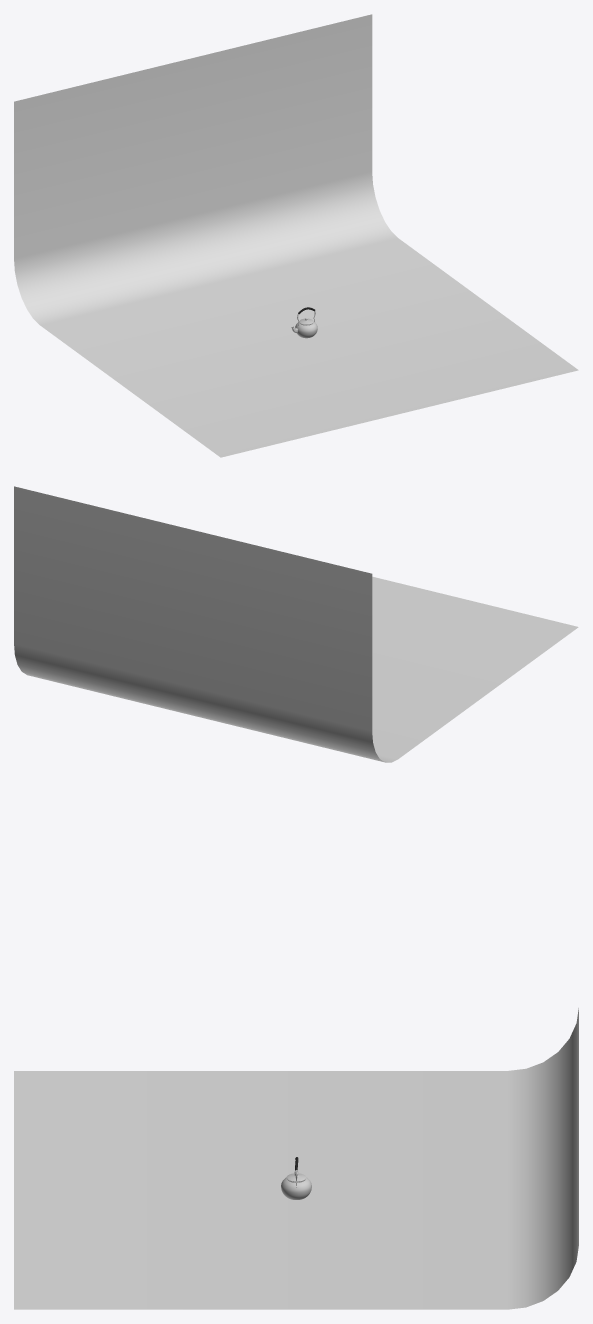
The model's file is Teapot.fbx.
3 views of the same model, one above another, from view 1: azimuth 30°, elevation 25°; view 2: azimuth 150°, elevation 25°; view 3: azimuth 270°, elevation 25° (orthographic). The views are drawn at different scales.
Parts seen in each view (by area): view 1: Plane; view 2: Plane; view 3: Plane, Teapot Body.
Boxes of the visible parts, left/top/right/bottom form: Plane: left=14, top=14, right=578, bottom=457; Plane: left=14, top=486, right=578, bottom=762; Plane: left=14, top=1008, right=578, bottom=1309; Teapot Body: left=281, top=1170, right=311, bottom=1199.
Size of the model in its own units: 397 by 217 by 397.
